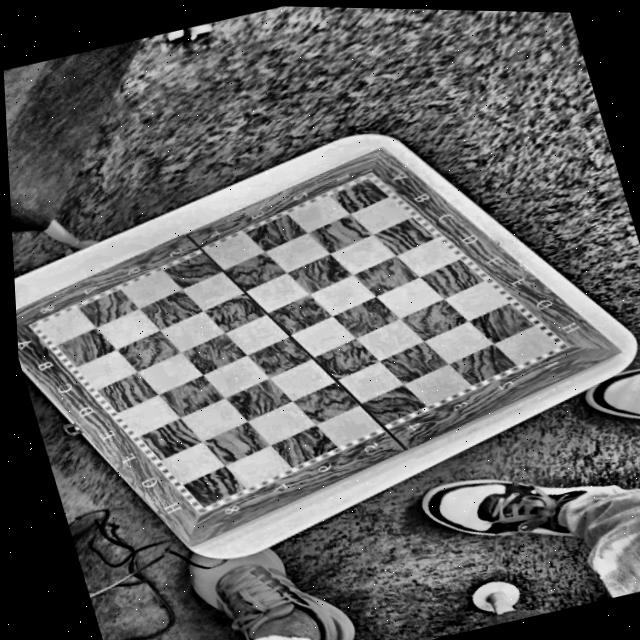chessboard: (27, 170, 572, 515)
p1: (358, 173, 374, 185)
p2: (34, 319, 47, 327)
p3: (199, 499, 209, 510)
p4: (550, 342, 563, 350)
